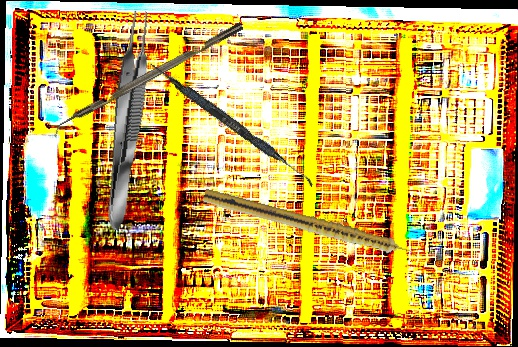Chopper: (48, 22, 249, 141)
Handpiece: (201, 187, 420, 265)
Spatula Surgical: (145, 61, 319, 187)
Tissue Forceps: (98, 8, 157, 233)
